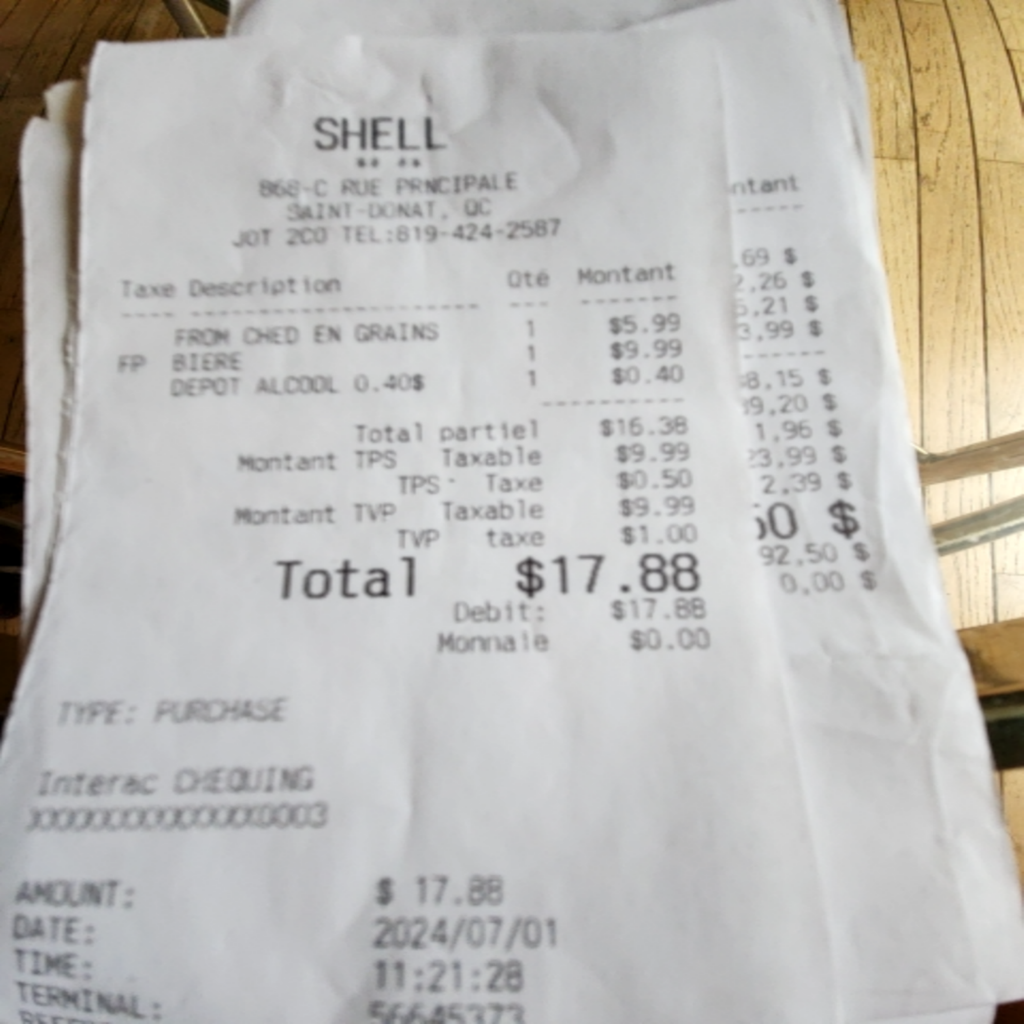recipt: (0, 2, 1014, 1020)
